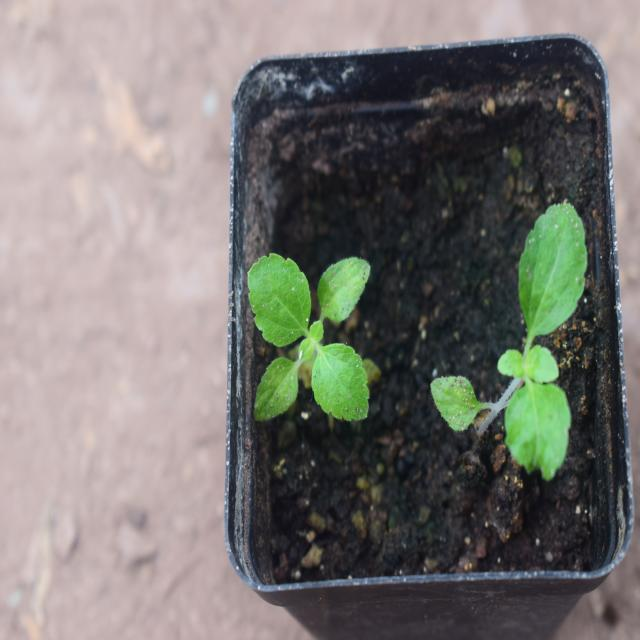billygoat_weed: (480, 182, 591, 474), (251, 239, 375, 442)
